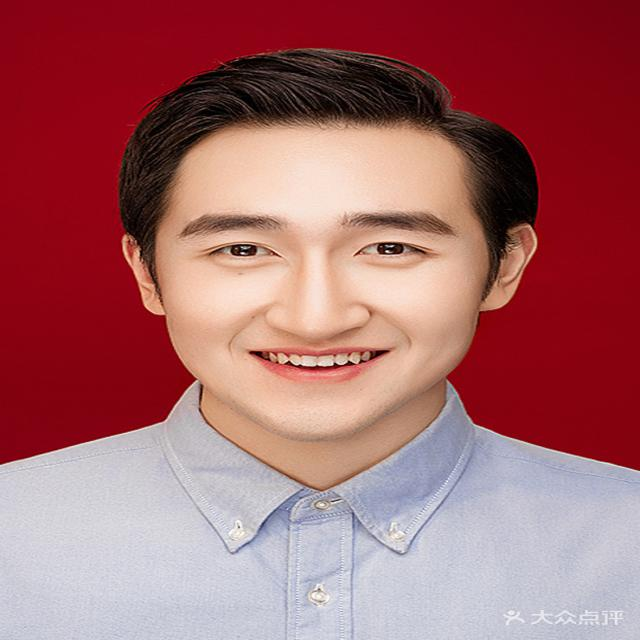Open: (351, 239, 434, 260), (202, 240, 281, 261)
